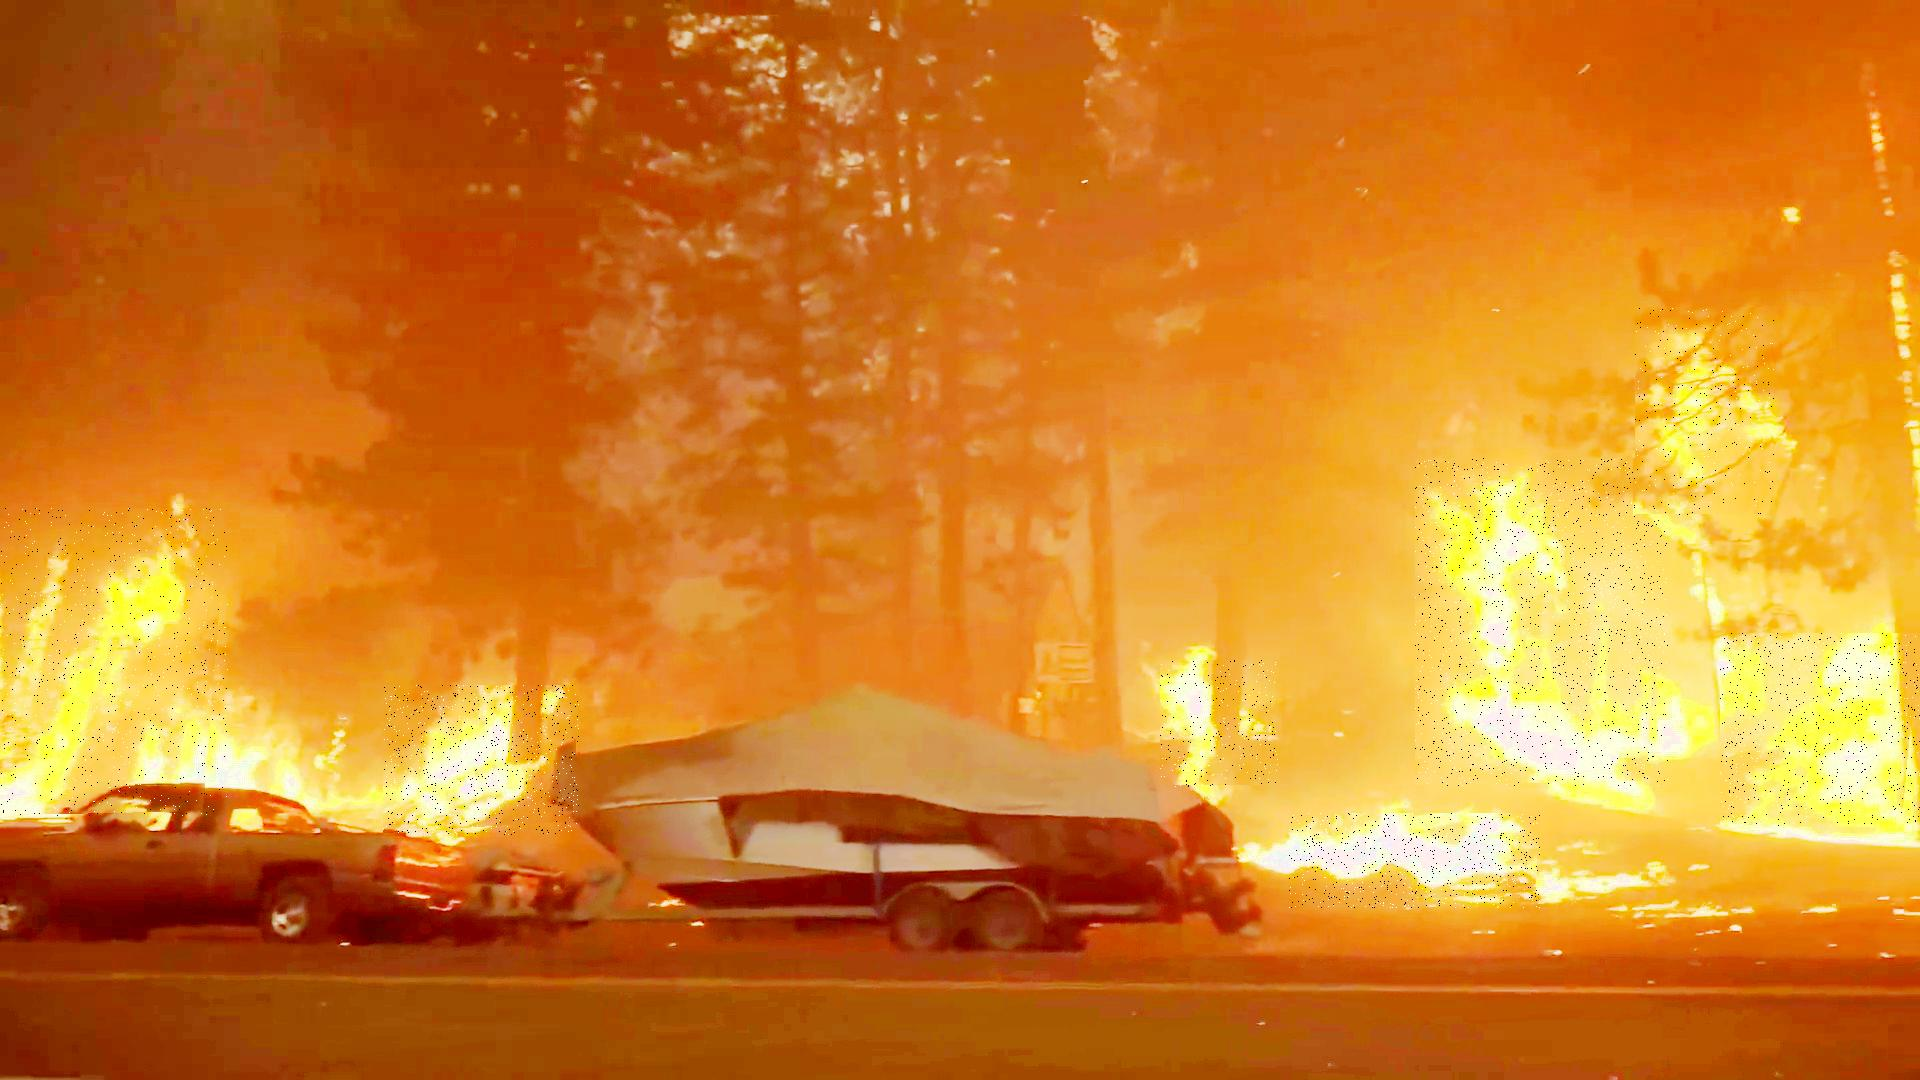fire: (1416, 458, 1668, 786), (0, 508, 228, 816), (1720, 633, 1920, 825), (384, 686, 580, 836), (1635, 307, 1775, 517), (1290, 814, 1540, 909), (1160, 661, 1279, 789)
